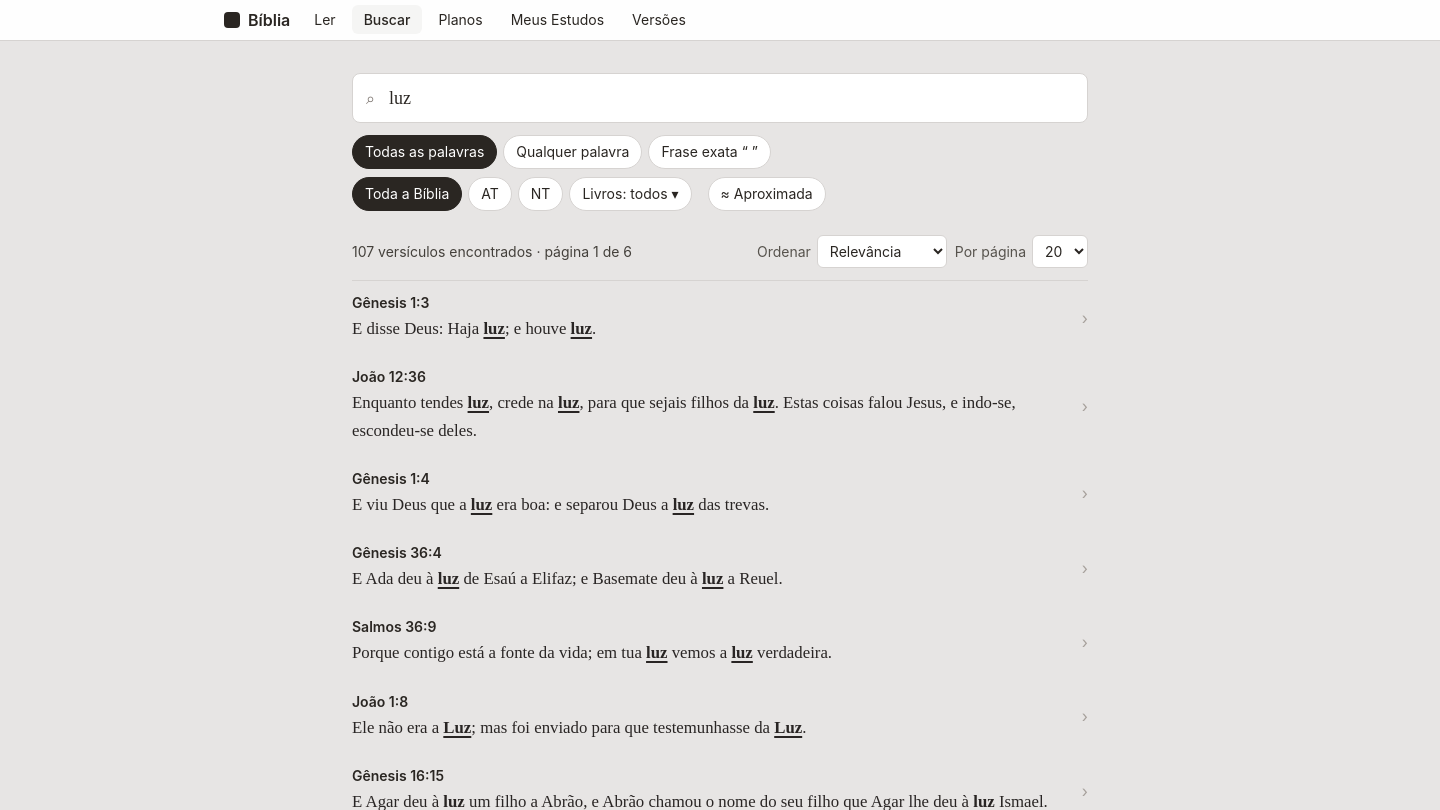
Busca (UC03) › filtra por livros no diálogo e pagina (RF02.5, RF02.7)
The width and height of the screenshot is (1440, 810).
expect the message shows "encontrados": met, box [352,242,632,260]
Click the button "Livros: todos ▾": x=630, y=194 [569,177,692,211]
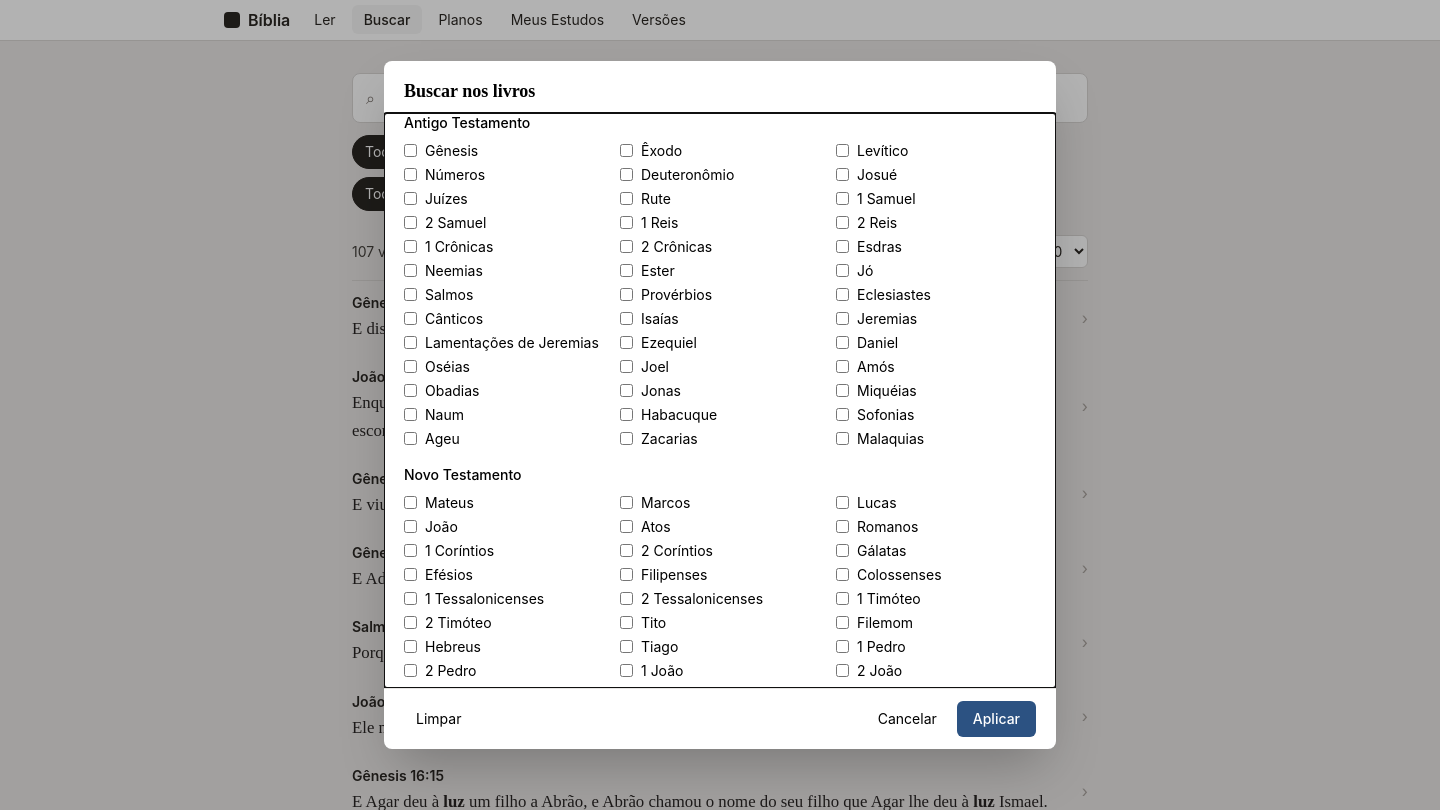
Click the checkbox labelled "Salmos": x=410, y=295 [404,288,417,301]
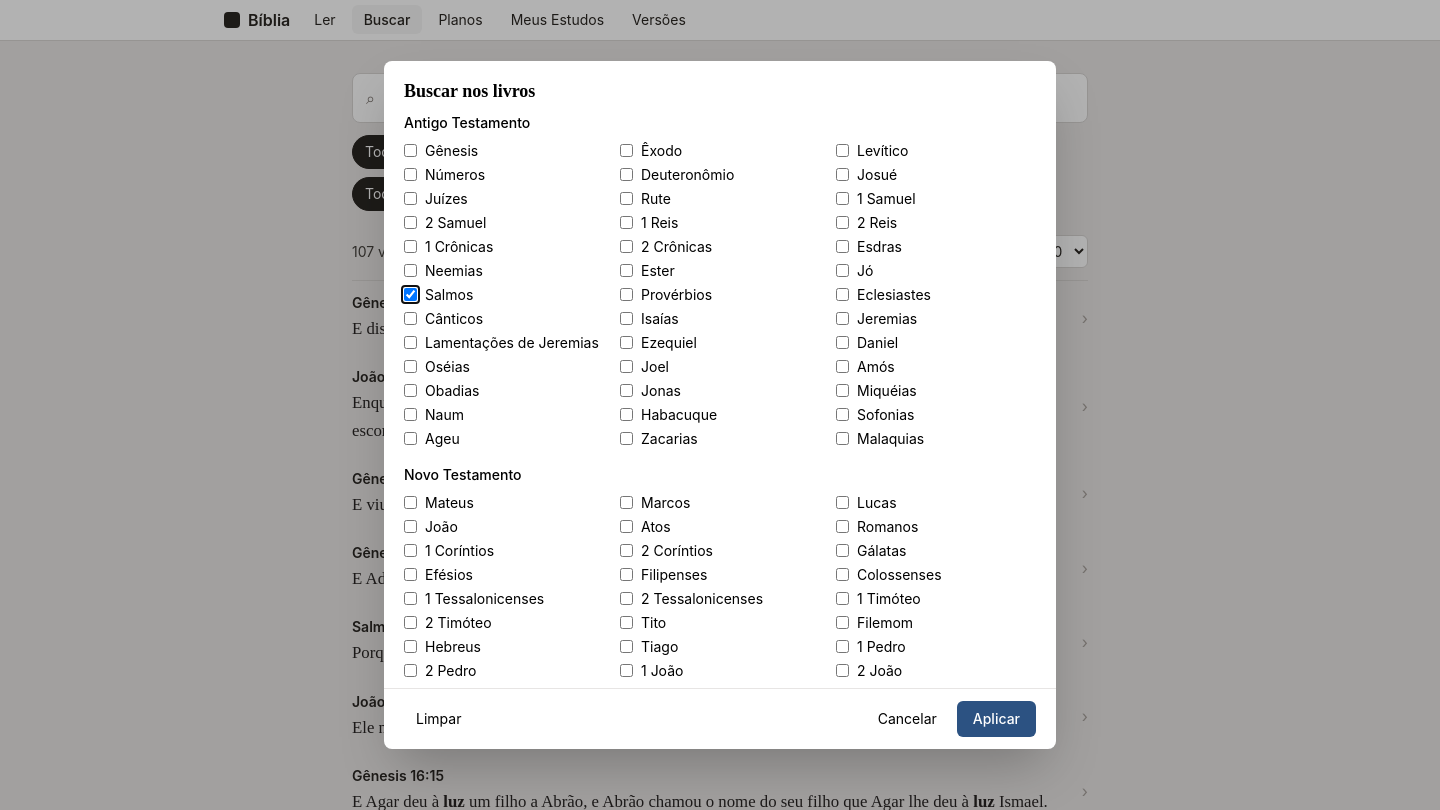
Click the button "Aplicar": x=996, y=719 [957,701,1036,737]
(page scrolled)
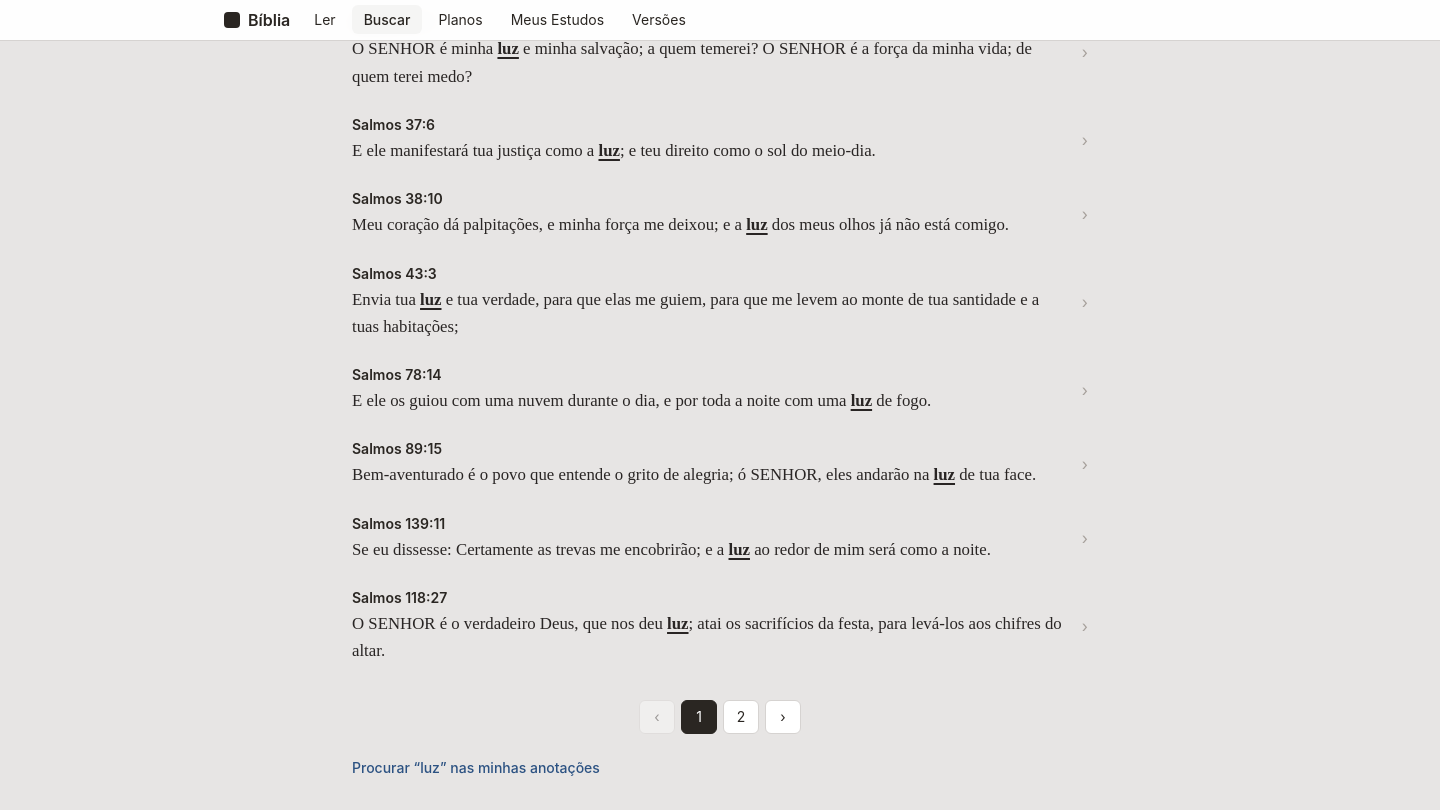
Click the button named "Próxima página": x=783, y=718 [765,700,801,734]
(page scrolled)
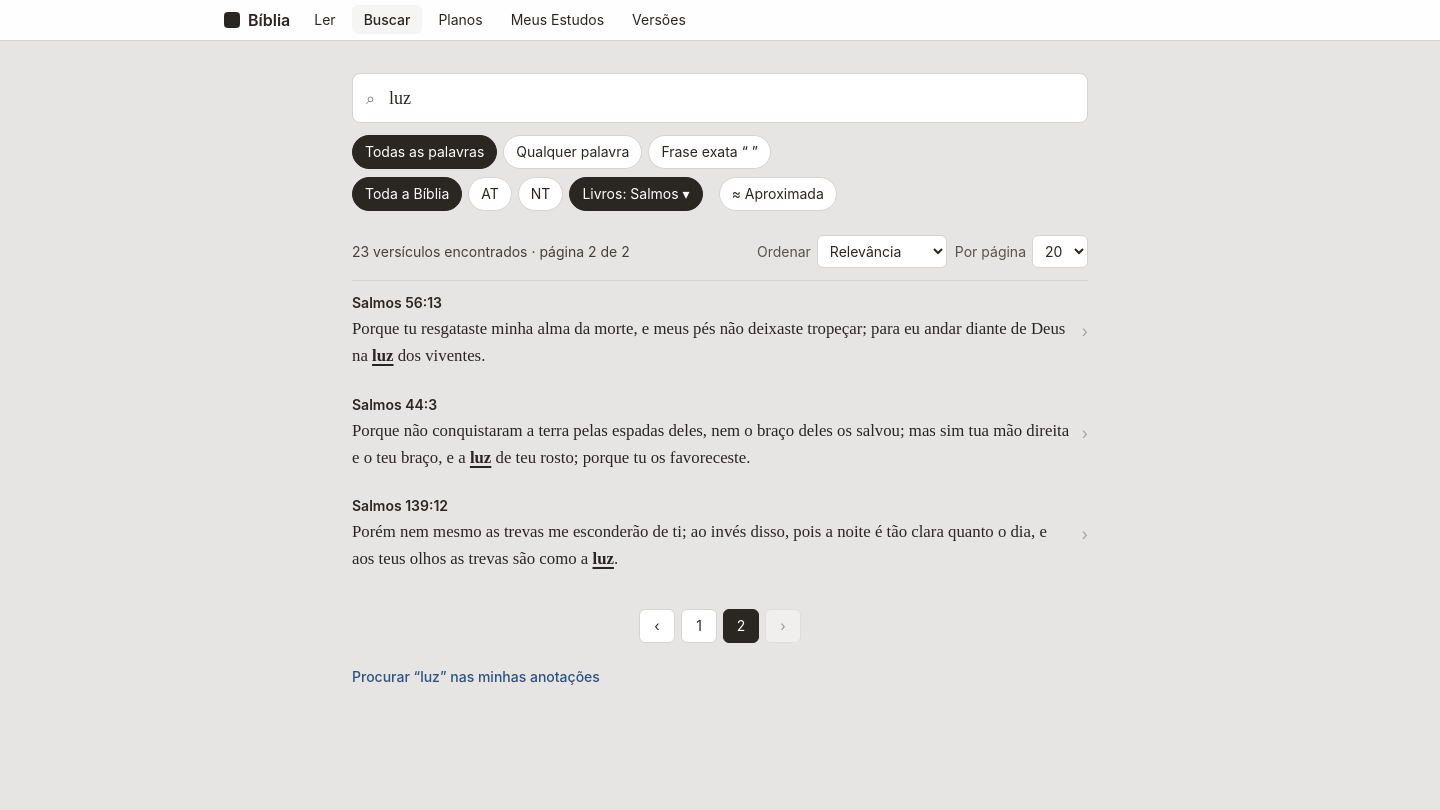
expect the message shows "página 2": met, box [352,242,630,260]
